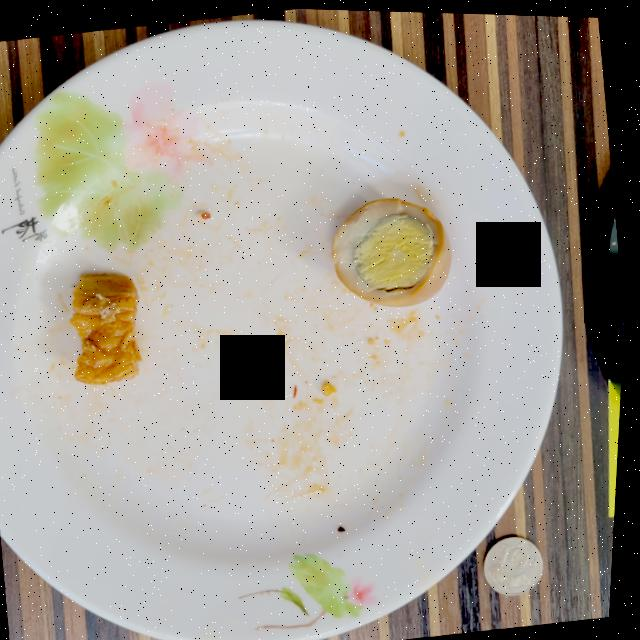coin: (489, 533, 548, 593)
creamy tofu: (73, 273, 144, 384)
soy egg: (333, 195, 454, 305)
